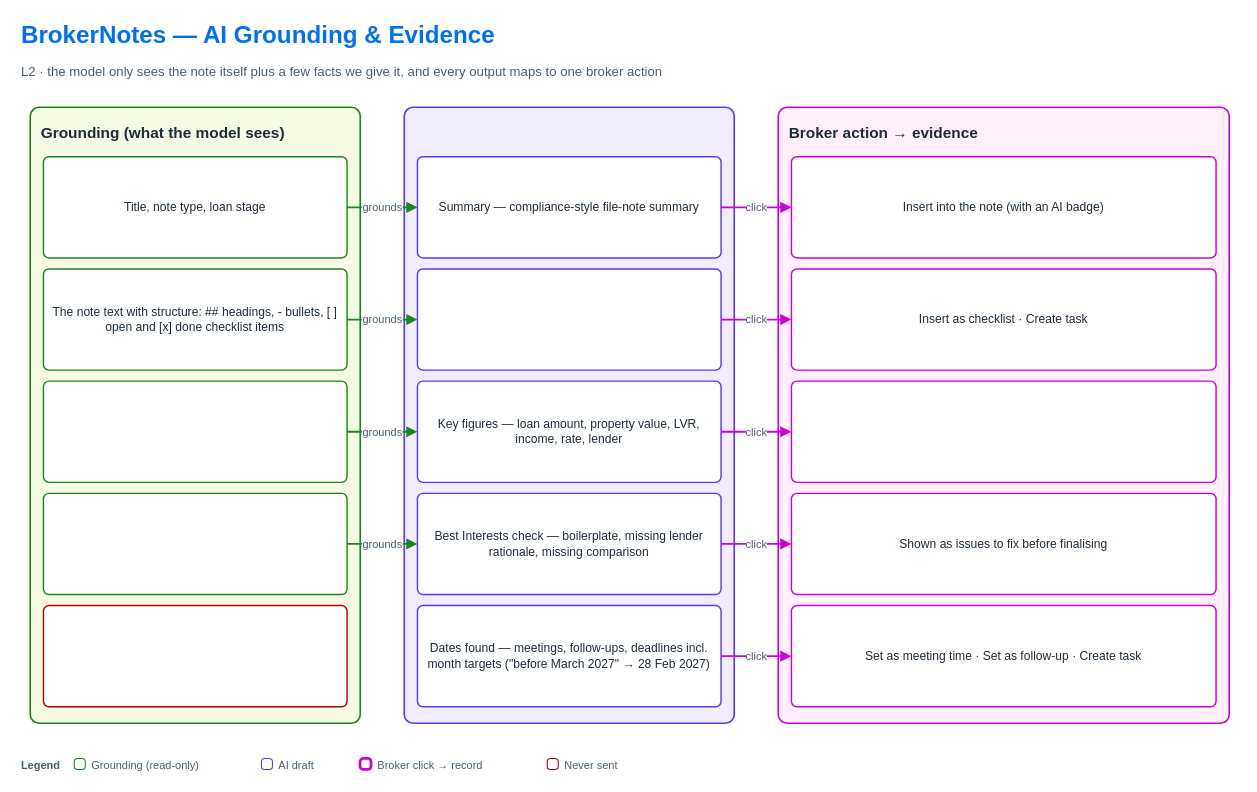
This 1257x792 diagram has some shape labels left out. The shapes that lost their labels are listed below. From the top down, each one's box as (x1, y1, x2, y2) in pixels, then its label:
(416, 268, 721, 370): Action items — only from open [ ] items and the text
(42, 380, 347, 483): Today: weekday + date (Australia/Sydney) — so "next Tuesday" resolves
(403, 106, 735, 724): AI output (draft)
(790, 380, 1216, 483): Apply to Details fields
(42, 492, 347, 595): Already scheduled: meeting & follow-up, so they aren't suggested again
(42, 604, 347, 707): Never: client contact details, other notes, other brokerages' data
